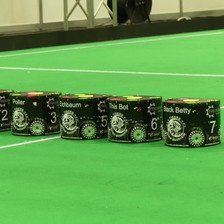robot: (162, 94, 224, 148), (104, 92, 164, 144), (56, 91, 111, 141), (7, 90, 62, 135), (1, 87, 11, 133)
